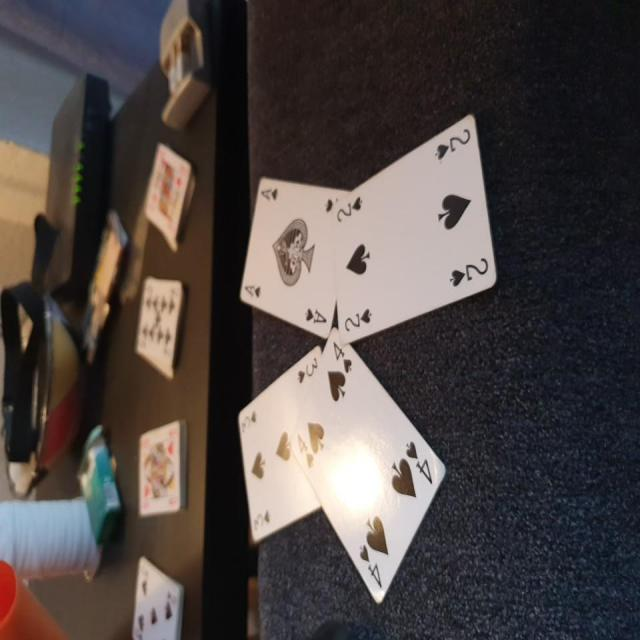2 Spades: (320, 114, 503, 345)
3 Spades: (230, 346, 341, 560)
4 Spades: (280, 329, 456, 619)
A Spades: (229, 169, 353, 348)
